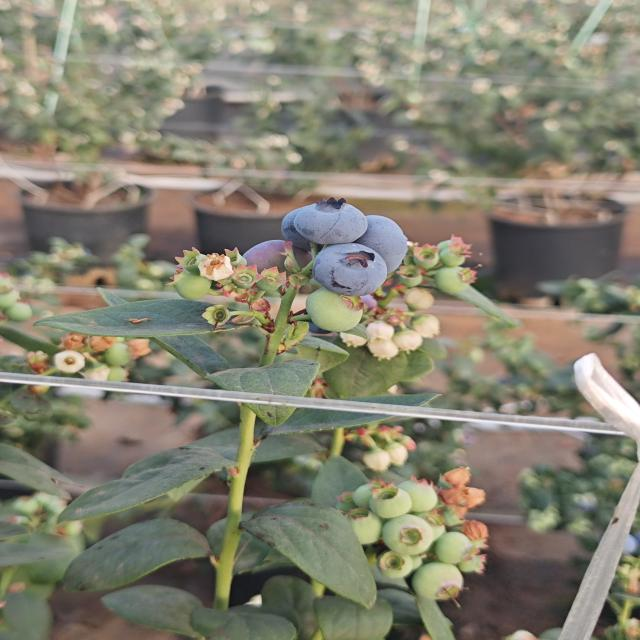ripe: (304, 245, 389, 295), (287, 195, 372, 242), (364, 215, 408, 268)
